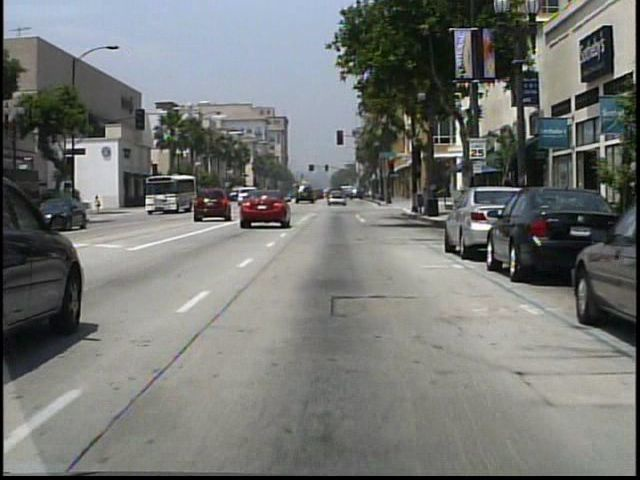person: (96, 194, 103, 213)
